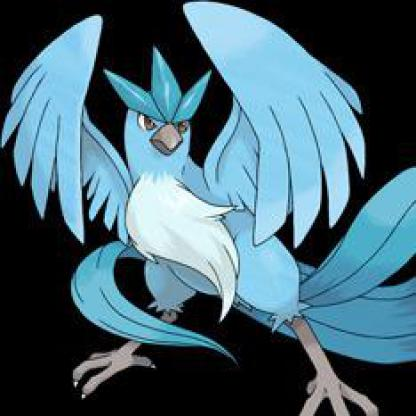Articuno: (65, 30, 415, 415)
